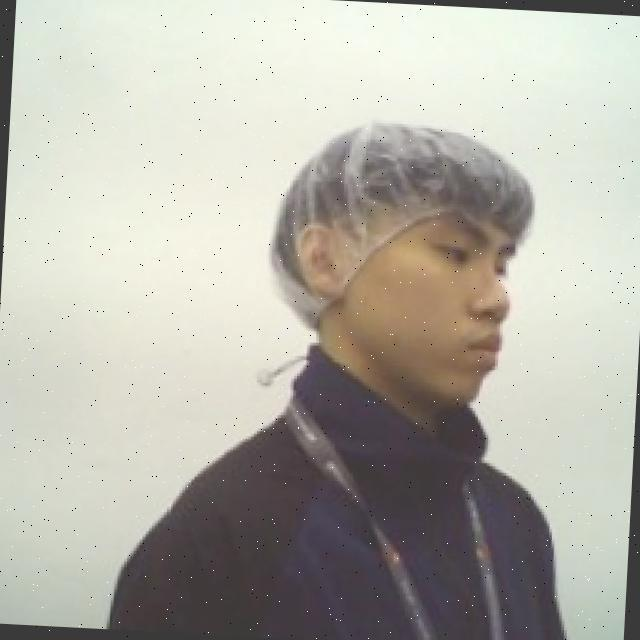gloves: (261, 108, 544, 346)
no_hairnet: (284, 214, 520, 420)
